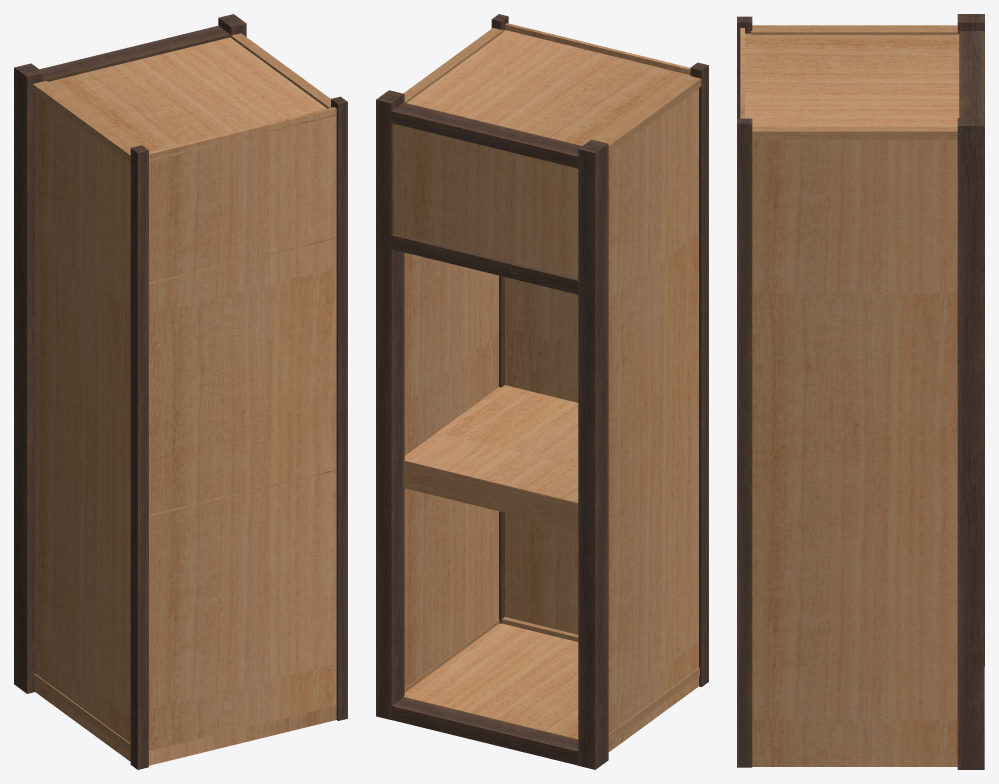
File: inwall_osiire_0t_b.fbx
3 views of the same model, side by side, from view 1: azimuth 30°, elevation 25°; view 2: azimuth 150°, elevation 25°; view 3: azimuth 270°, elevation 25° (orthographic). The views are drawn at different scales.
Parts seen in each view (by area): view 1: inwall_osiire_0t_b; view 2: inwall_osiire_0t_b; view 3: inwall_osiire_0t_b.
Part boxes in pixels (x1=…): inwall_osiire_0t_b: x1=14, y1=14, x2=347, y2=769; inwall_osiire_0t_b: x1=376, y1=14, x2=708, y2=769; inwall_osiire_0t_b: x1=737, y1=14, x2=984, y2=769.
Bounding box in the file's own units: 110 × 296 × 103.
